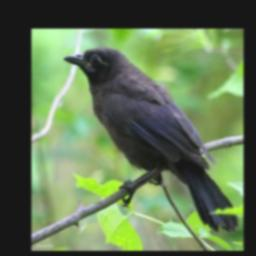Crow: (63, 45, 240, 233)
